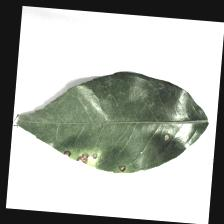canker: (53, 140, 131, 175)
